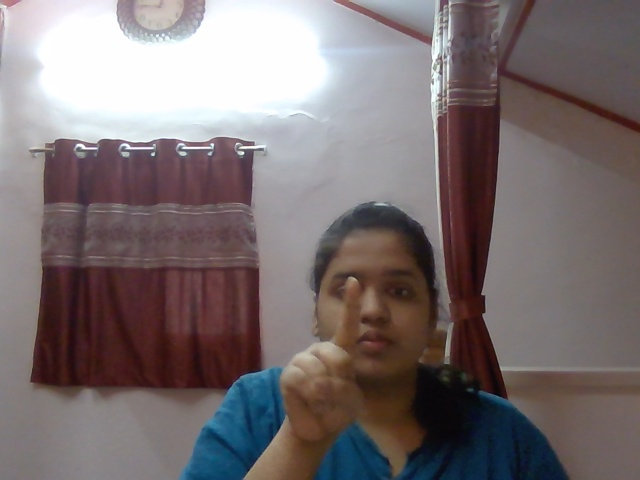z: (256, 278, 403, 451)
